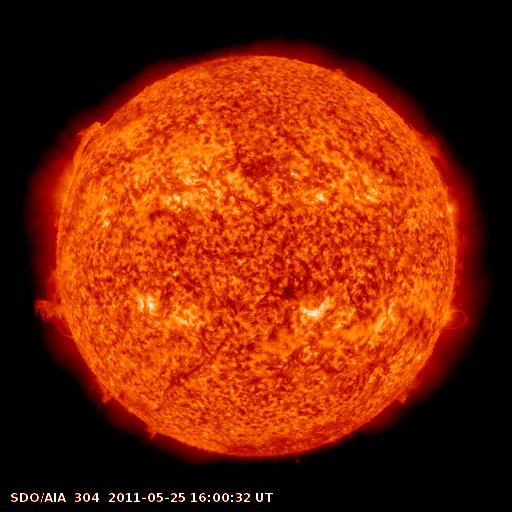prominence: (25, 263, 89, 347), (60, 109, 121, 175), (404, 118, 457, 187), (440, 225, 486, 291), (383, 361, 435, 413), (90, 369, 125, 416), (138, 416, 167, 449)
